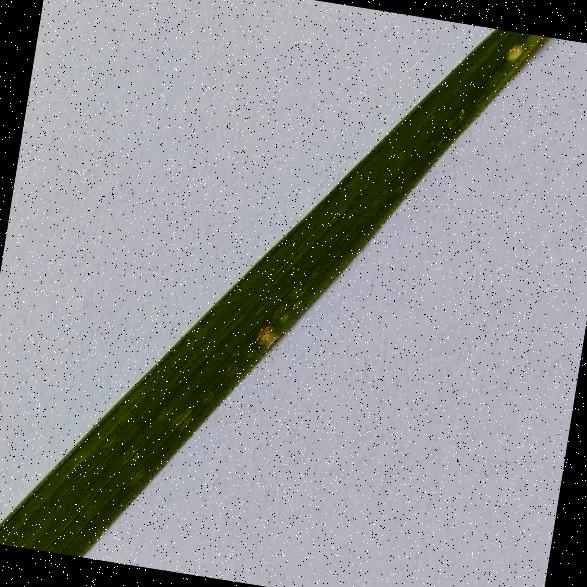Leaf_smut: (245, 303, 292, 356), (500, 35, 528, 65)
